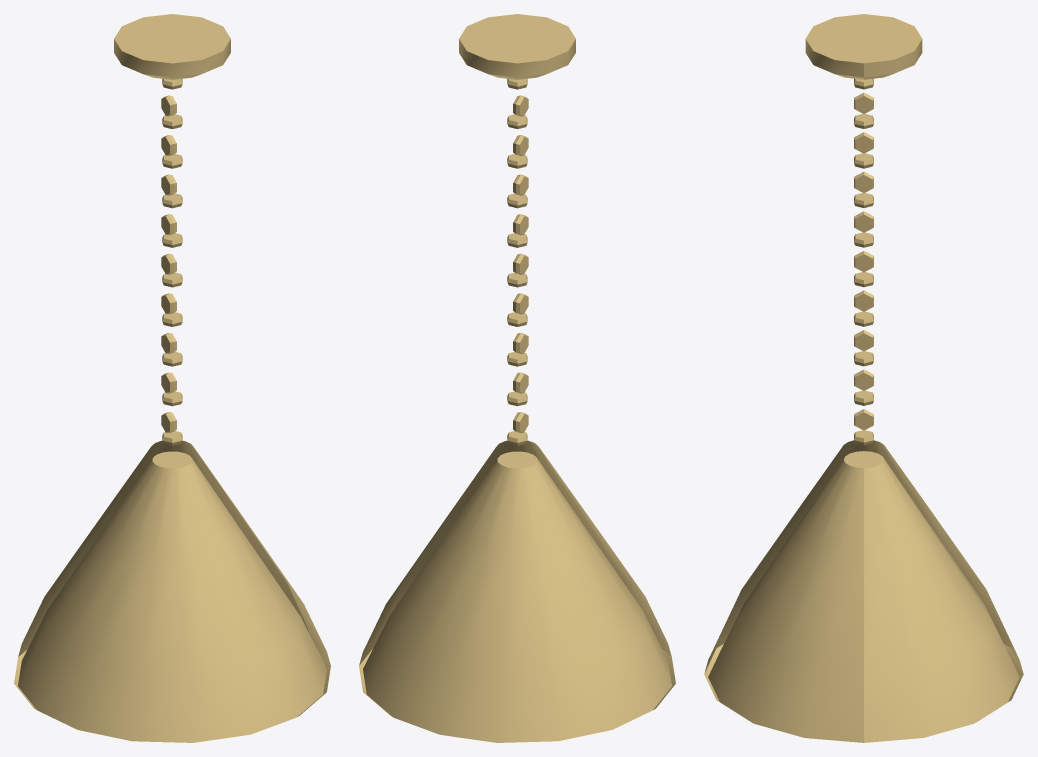
File: bar-pub-and-brewery-taproom-pendant-light-af580beb__18426.glb
3 views of the same model, side by side, from view 1: azimuth 30°, elevation 25°; view 2: azimuth 150°, elevation 25°; view 3: azimuth 270°, elevation 25° (orthographic).
Parts seen in each view (by area): view 1: pendant-light; view 2: pendant-light; view 3: pendant-light.
Boxes of the visible parts, bbox=[...] form: pendant-light: bbox=[14, 14, 330, 742]; pendant-light: bbox=[359, 14, 675, 742]; pendant-light: bbox=[704, 14, 1023, 742].
Size of the model in its own units: 0.41 by 0.904 by 0.41.
